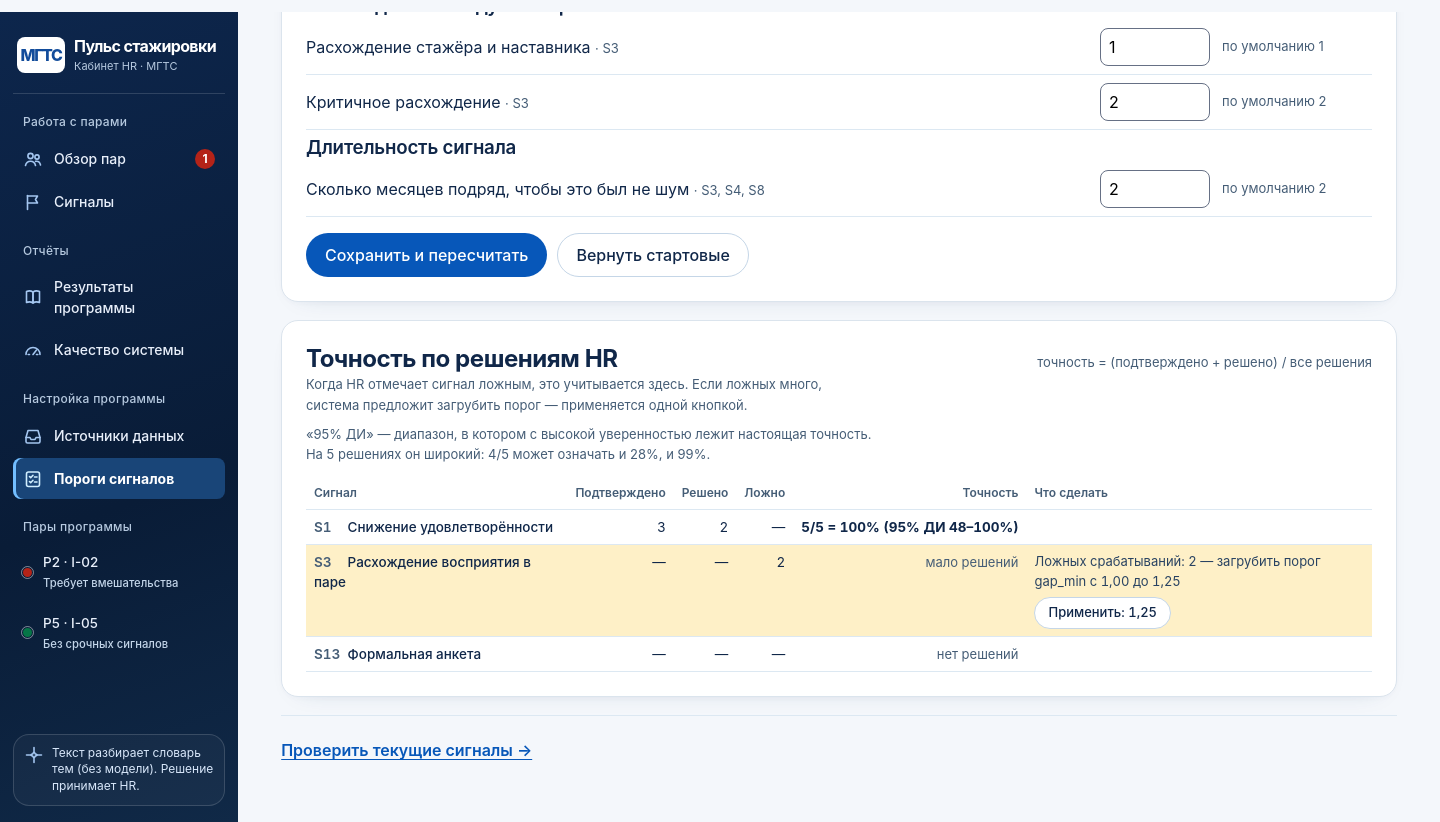
Test case: пороги: точность по решениям HR и «Применить» сохраняет новый порог
The image size is (1440, 822).
(page scrolled)
Check: the heading "Точность по решениям HR" is shown, box [306,344,618,374]
Check: the text "нет решений" is shown, box [937,646,1018,662]
Step 1. Click the button "Применить: 1,25" → click(1103, 613), box [1034,597,1171,629]
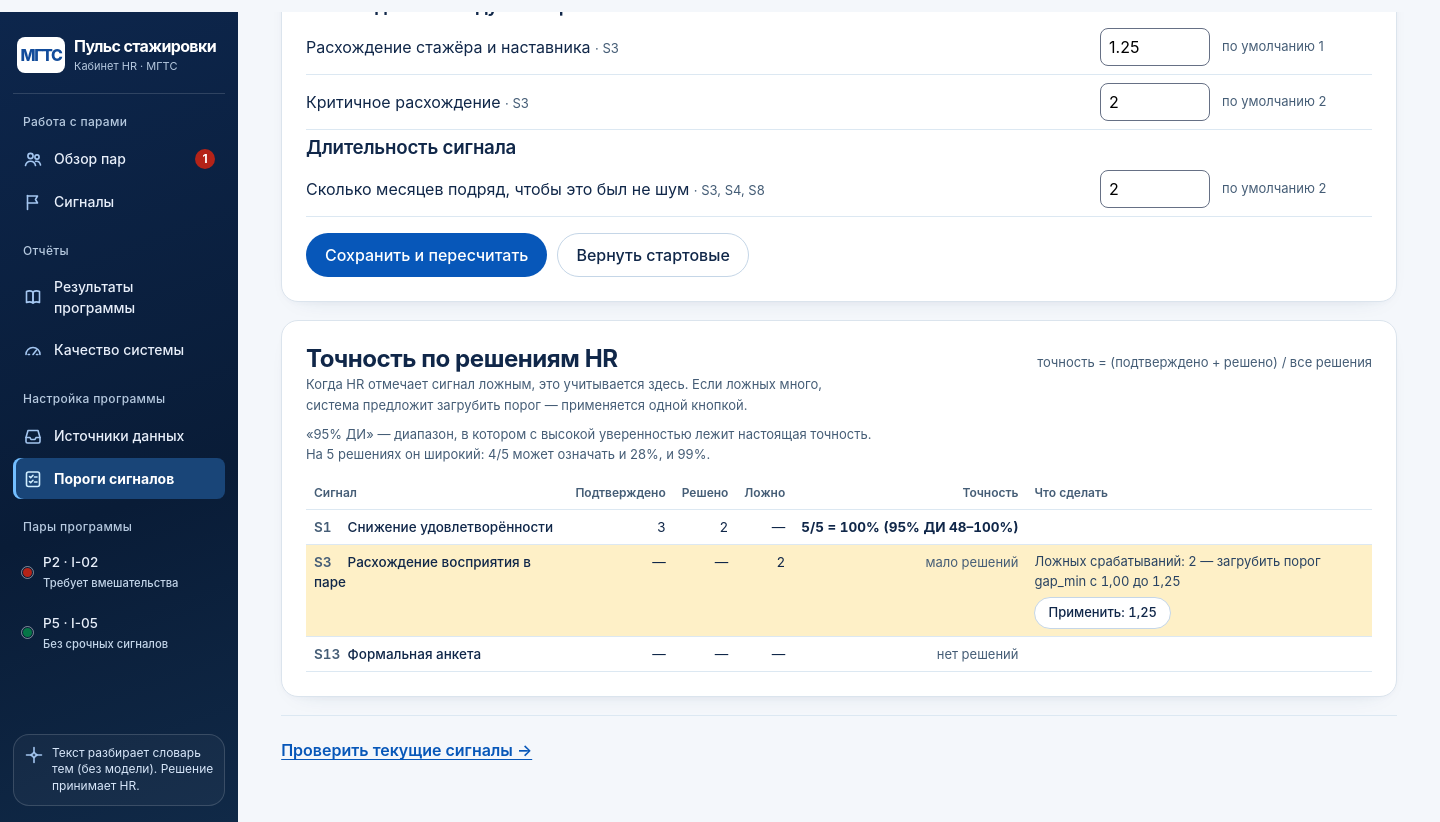
Check: the number field labelled "Расхождение стажёра и наставника · S3" holds "1.25", box [1100,28,1210,66]
